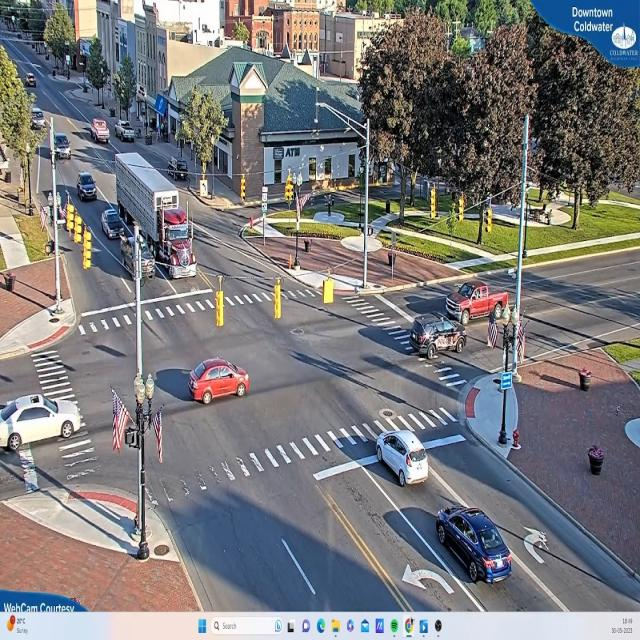car: (436, 506, 513, 586), (0, 397, 83, 452), (374, 429, 430, 487), (190, 358, 253, 404), (409, 316, 466, 358), (452, 285, 511, 323), (104, 208, 129, 238), (78, 174, 98, 202), (116, 122, 138, 144), (54, 133, 72, 158), (92, 120, 110, 144), (25, 75, 35, 86)
truck: (149, 172, 198, 290)
